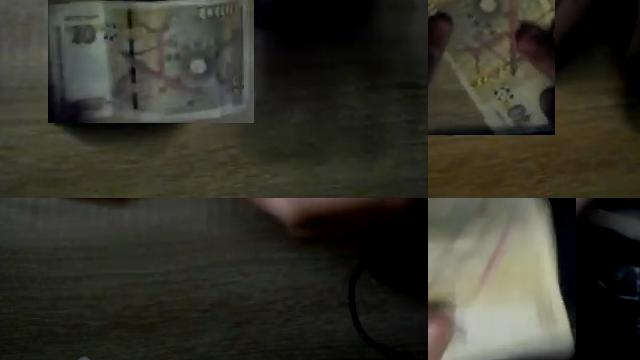10leva: (48, 0, 254, 123), (428, 198, 576, 360), (428, 0, 555, 135)
